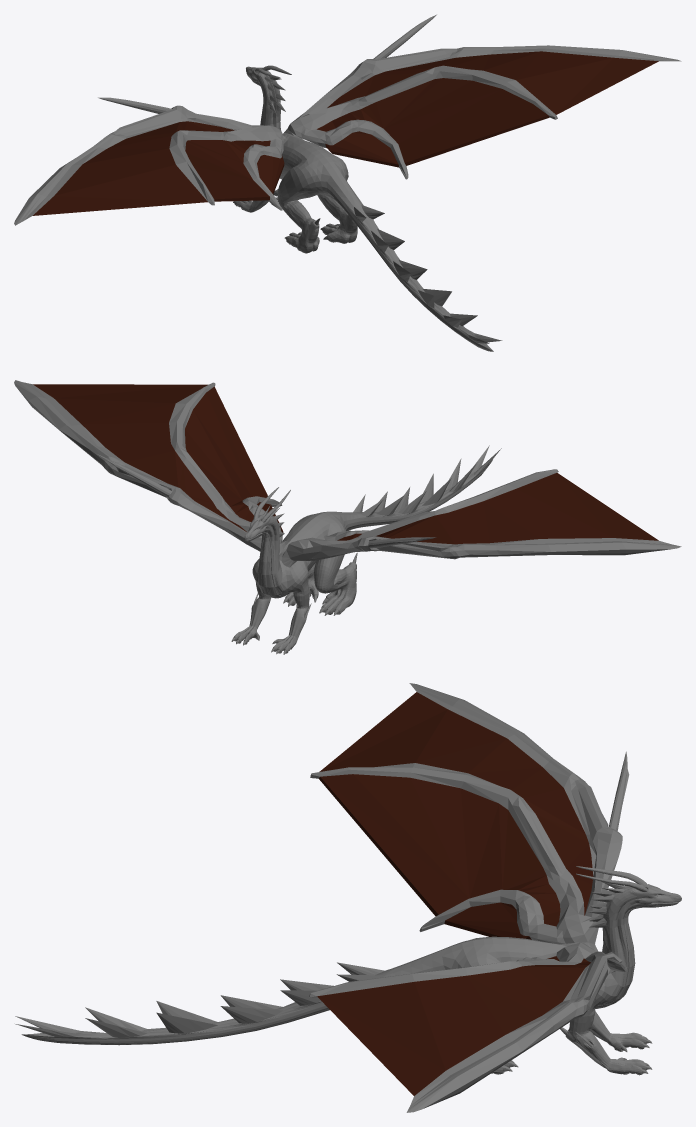
File: dragon.obj
3 renders of one model, top to bottom at view 1: azimuth 30°, elevation 25°; view 2: azimuth 150°, elevation 25°; view 3: azimuth 270°, elevation 25°, orthographic. The views are drawn at different scales.
Visible parts, largest first — view 1: Cube_Cube.001; view 2: Cube_Cube.001; view 3: Cube_Cube.001.
Part boxes in pixels (x1,y1,x2,y2): Cube_Cube.001: (14,14,681,351); Cube_Cube.001: (14,380,681,654); Cube_Cube.001: (15,683,681,1112).
Bounding box in the file's own units: 6.06 × 1.29 × 3.94.
